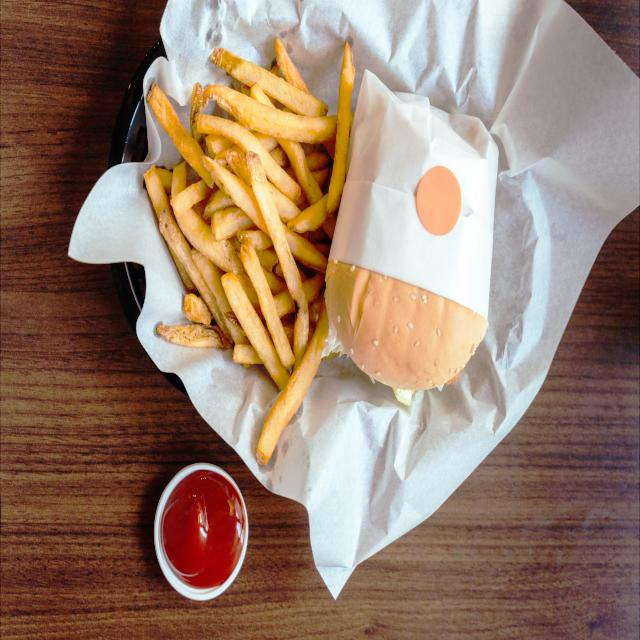burger: (328, 70, 499, 401)
french fries: (144, 35, 348, 465)
ketchup: (155, 462, 253, 602)
